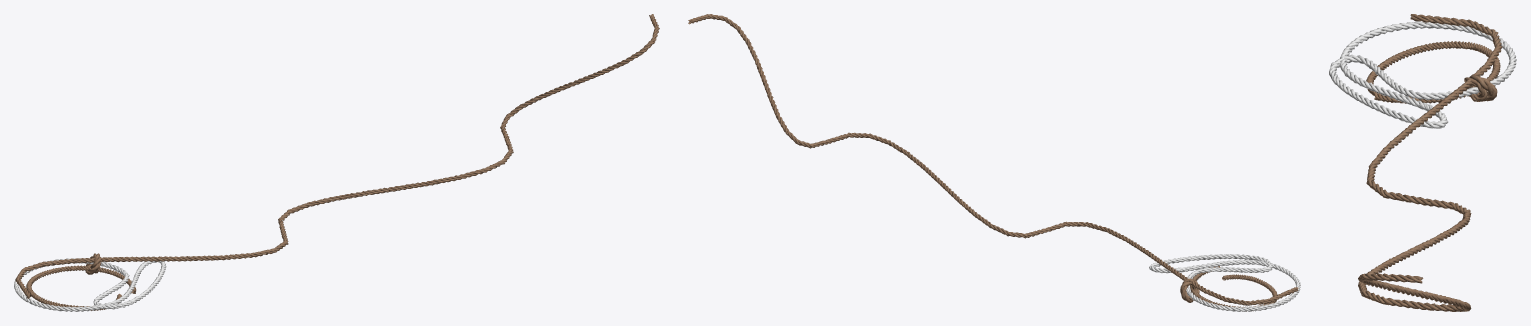
The model's file is rope.fbx.
The picture shows the model from 3 angles, left to right: view 1: azimuth 30°, elevation 25°; view 2: azimuth 150°, elevation 25°; view 3: azimuth 270°, elevation 25°; orthographic projection. The views are drawn at different scales.
Parts seen in each view (by area): view 1: Rope; view 2: Rope; view 3: Rope.
Boxes of the visible parts, x1=… form: Rope: x1=14, y1=14, x2=659, y2=311; Rope: x1=688, y1=14, x2=1300, y2=311; Rope: x1=1329, y1=14, x2=1516, y2=311.
Size of the model in its own units: 53.79 by 67.47 by 305.
Materials: 2 (1 with a texture image).
